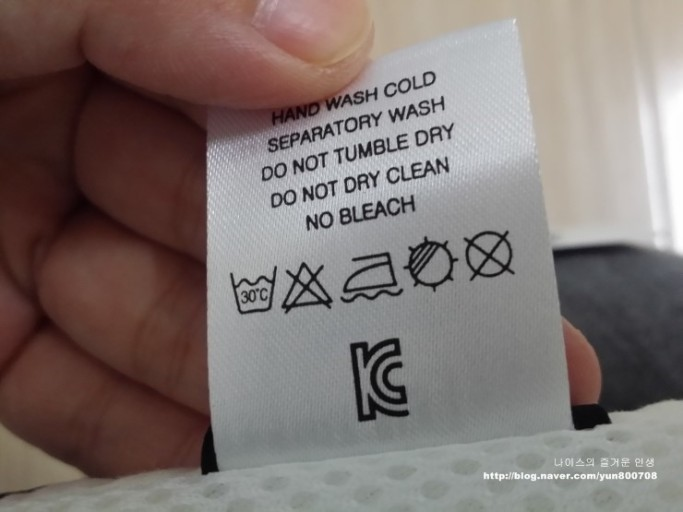ER_no_bleach: (276, 259, 334, 313)
ER_no_dry_clean: (462, 225, 516, 284)
ER_wash_30: (226, 265, 280, 315)
